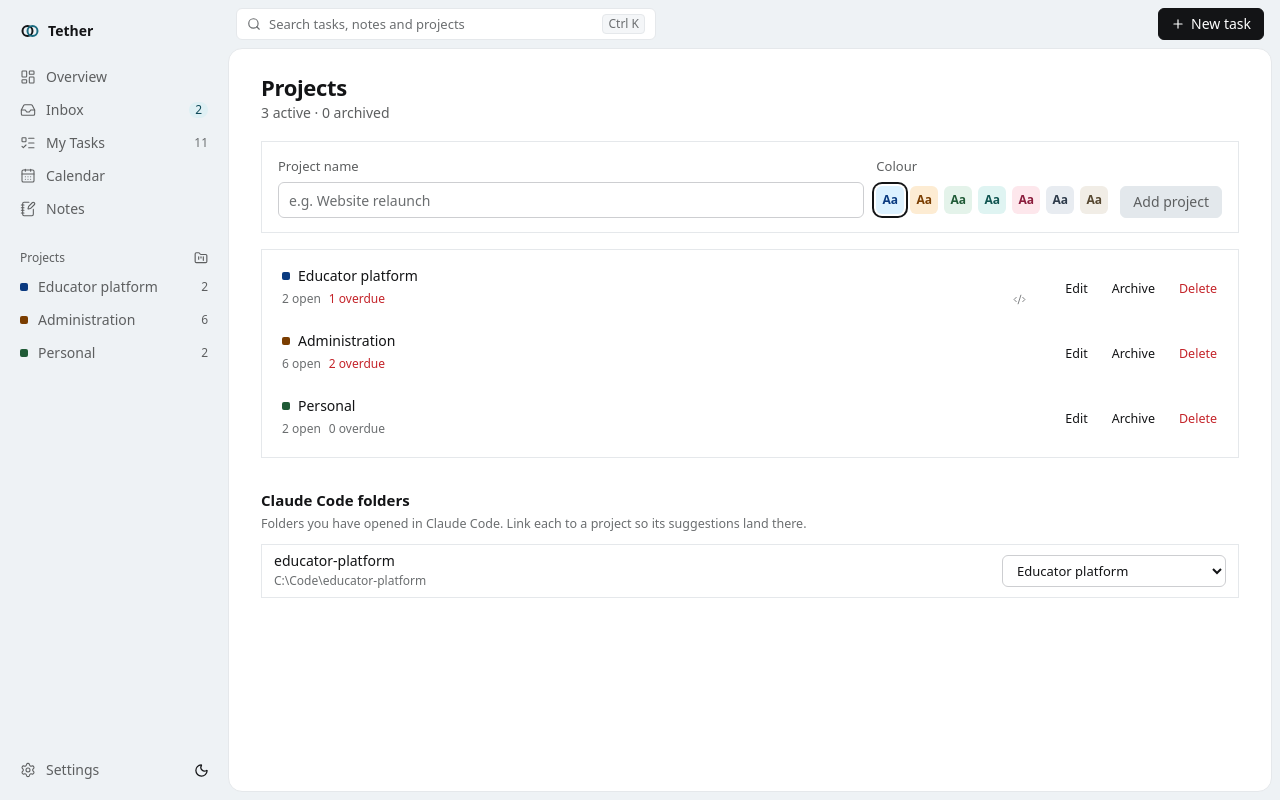
Test: Projects list › creates a project and archives it
Type "Garden" into the field labelled "Project name" at (571, 200), box 278,182 -> 864,218
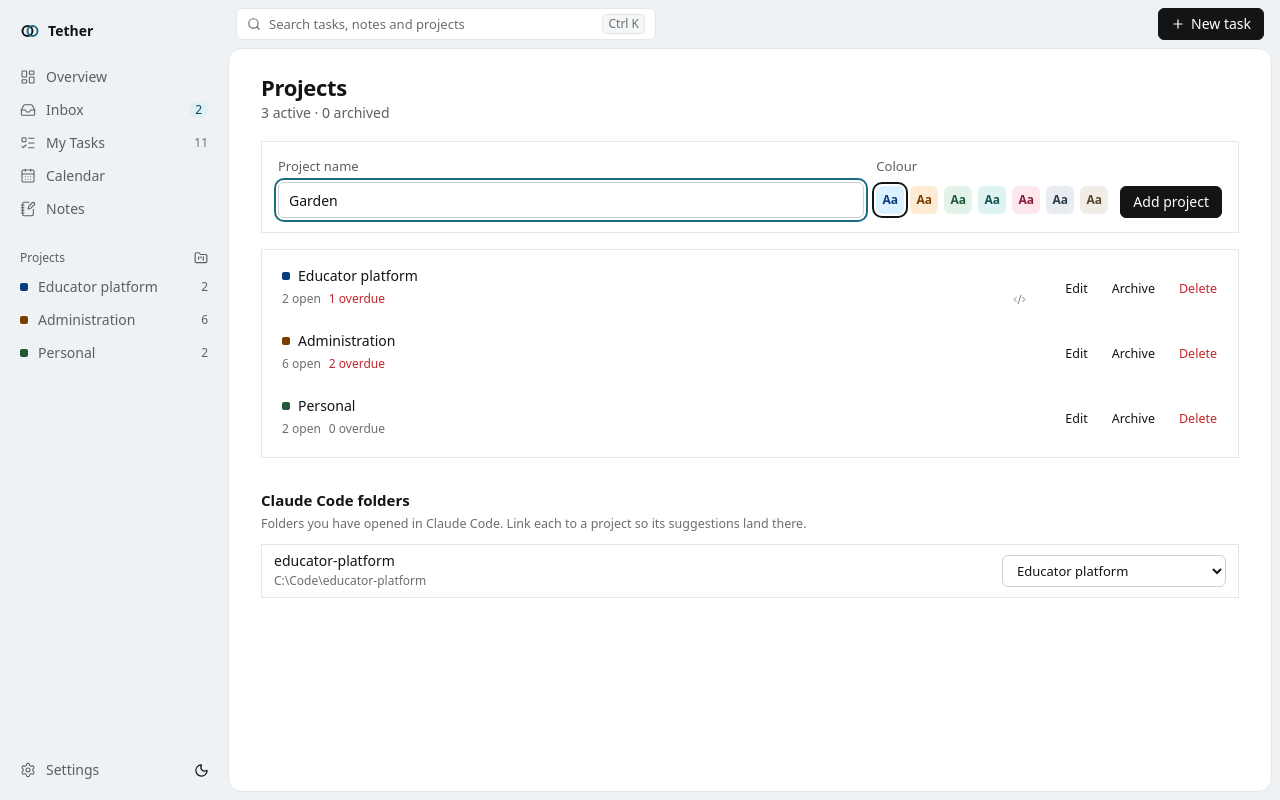
Click the button "Add project" at (1171, 202), box 1120,186 -> 1222,218
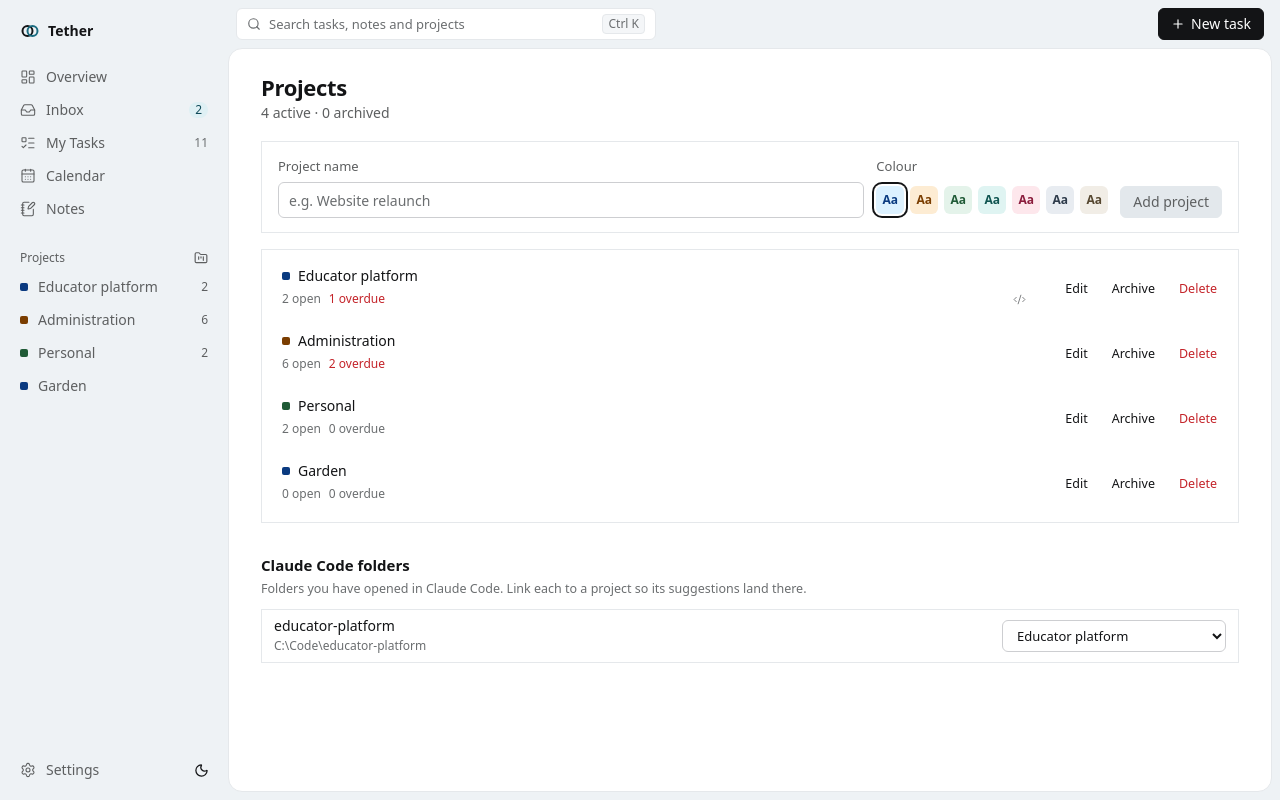
Now the link "Garden 0 open 0 overdue" is shown, box 282,461 -> 385,502
Click the button with aria-label "Archive Garden" at (1133, 484), box 1101,470 -> 1166,498
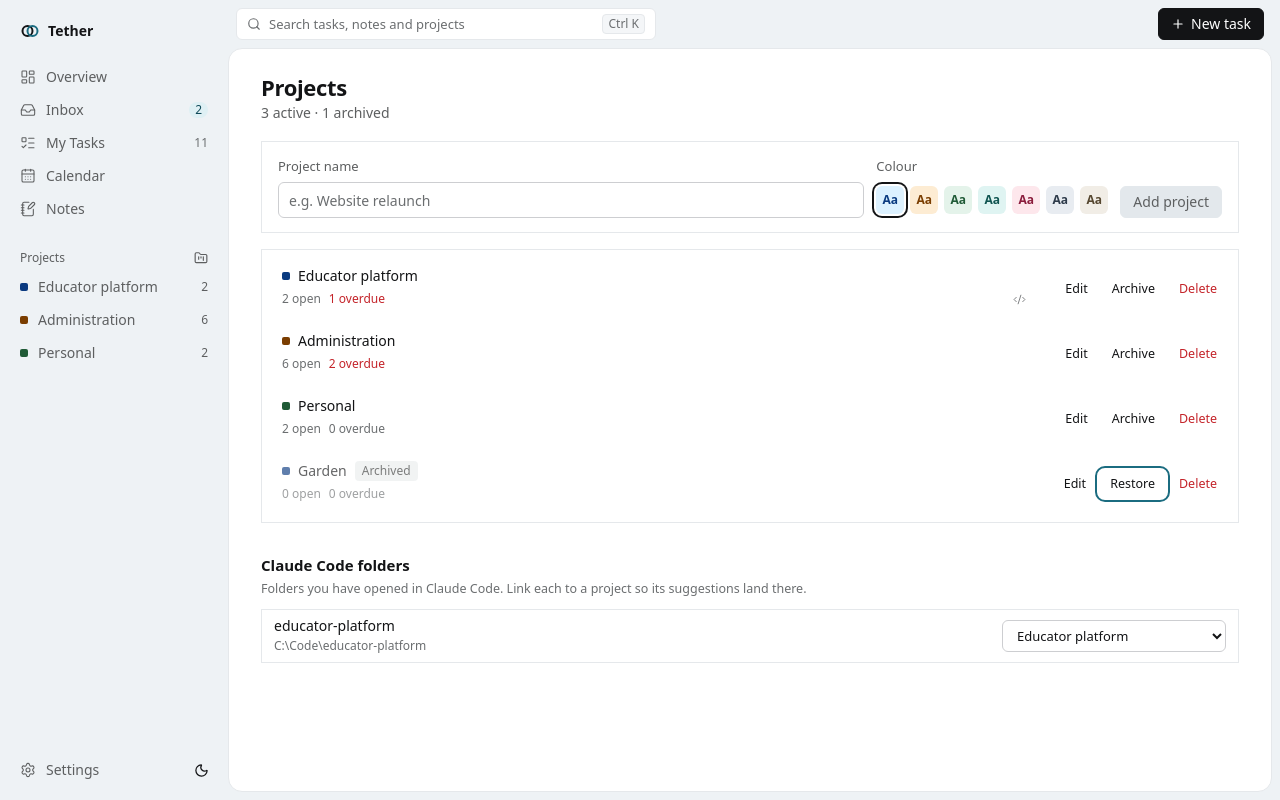
Now the button with aria-label "Restore Garden" is shown, box 1099,470 -> 1166,498
